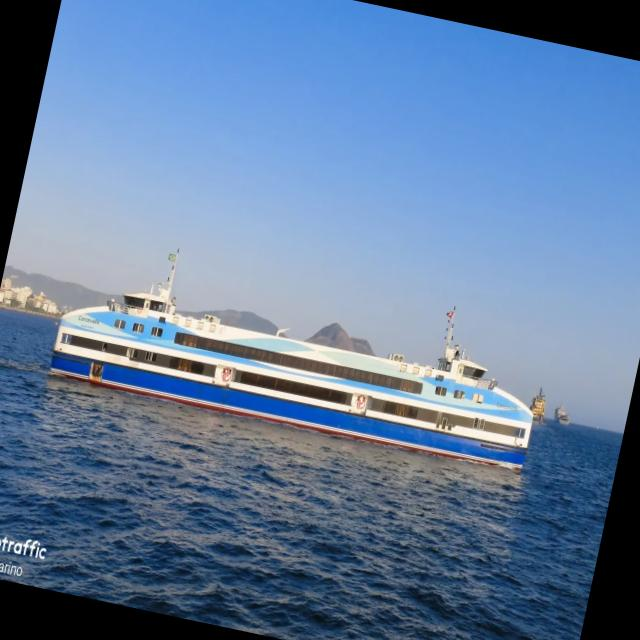Passenger: (50, 267, 534, 469)
